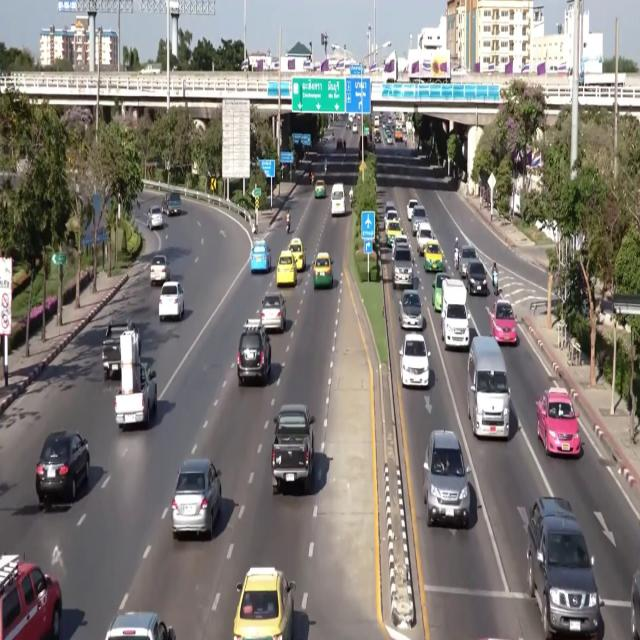car: (527, 497, 602, 639), (0, 555, 62, 639), (424, 431, 470, 527), (233, 568, 295, 639), (36, 432, 89, 506), (172, 459, 221, 539), (537, 388, 580, 455), (102, 319, 141, 379), (237, 319, 271, 385), (106, 612, 175, 639), (400, 333, 430, 387), (490, 299, 517, 343), (158, 281, 184, 322), (399, 289, 423, 330), (261, 292, 285, 332), (466, 260, 490, 295), (276, 250, 297, 287), (250, 240, 272, 274), (313, 252, 333, 288), (459, 245, 478, 279), (432, 273, 449, 311), (150, 255, 170, 286), (416, 222, 434, 255), (288, 238, 306, 271), (424, 240, 443, 271), (631, 570, 639, 639), (412, 205, 428, 236), (162, 192, 182, 216), (386, 220, 402, 247), (147, 206, 163, 230), (385, 209, 399, 231), (407, 200, 418, 221), (393, 233, 409, 247), (314, 180, 326, 198), (385, 200, 396, 217), (385, 134, 393, 145), (374, 132, 381, 143), (336, 138, 342, 150), (352, 122, 358, 133)
scooty: (492, 272, 498, 295), (454, 251, 460, 271), (286, 212, 290, 234), (454, 255, 459, 270)
traffic signal: (210, 177, 217, 192), (255, 197, 259, 208)
truck: (115, 331, 156, 428), (272, 405, 314, 494), (102, 320, 137, 379), (441, 279, 469, 350), (407, 48, 451, 83), (392, 245, 413, 288)
